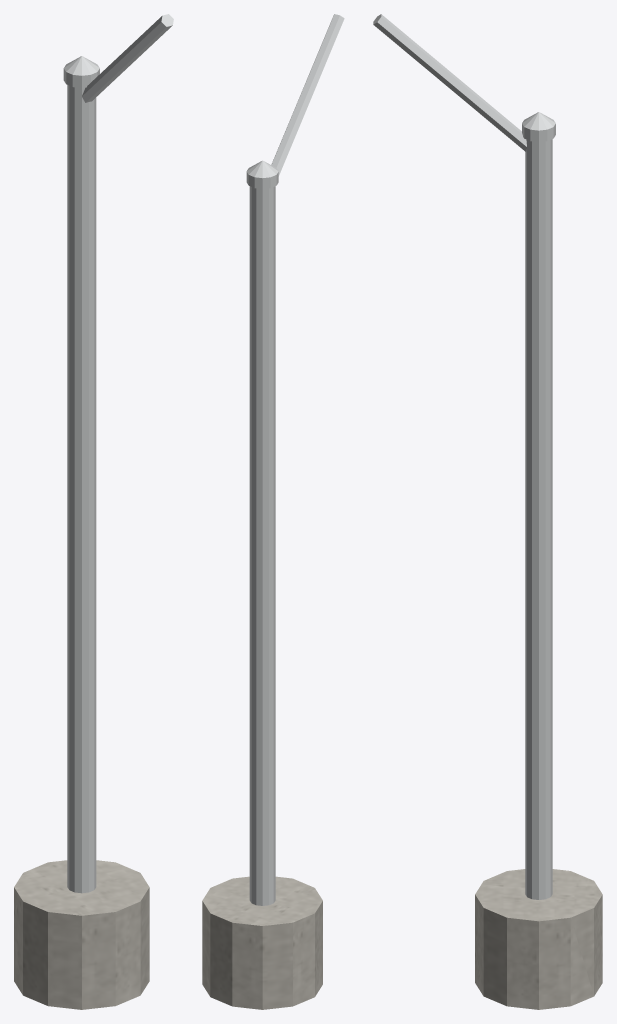
Rendered from fence_post.glb.
The picture shows the model from 3 angles, left to right: view 1: azimuth 30°, elevation 25°; view 2: azimuth 150°, elevation 25°; view 3: azimuth 270°, elevation 25°; orthographic projection. The views are drawn at different scales.
Visible parts, largest first — view 1: fence_post_galv, fence_post_concrete; view 2: fence_post_galv, fence_post_concrete; view 3: fence_post_galv, fence_post_concrete.
Part boxes in pixels (box(x1,y1,x2,y2)): fence_post_galv: box(63, 14, 173, 893); fence_post_concrete: box(14, 860, 149, 1009); fence_post_galv: box(246, 14, 344, 905); fence_post_concrete: box(202, 876, 322, 1009); fence_post_galv: box(373, 14, 555, 899); fence_post_concrete: box(475, 869, 602, 1009).
Bounding box in the file's own units: 0.3 × 2.51 × 0.5394.
Materials: 2 (1 with a texture image).
